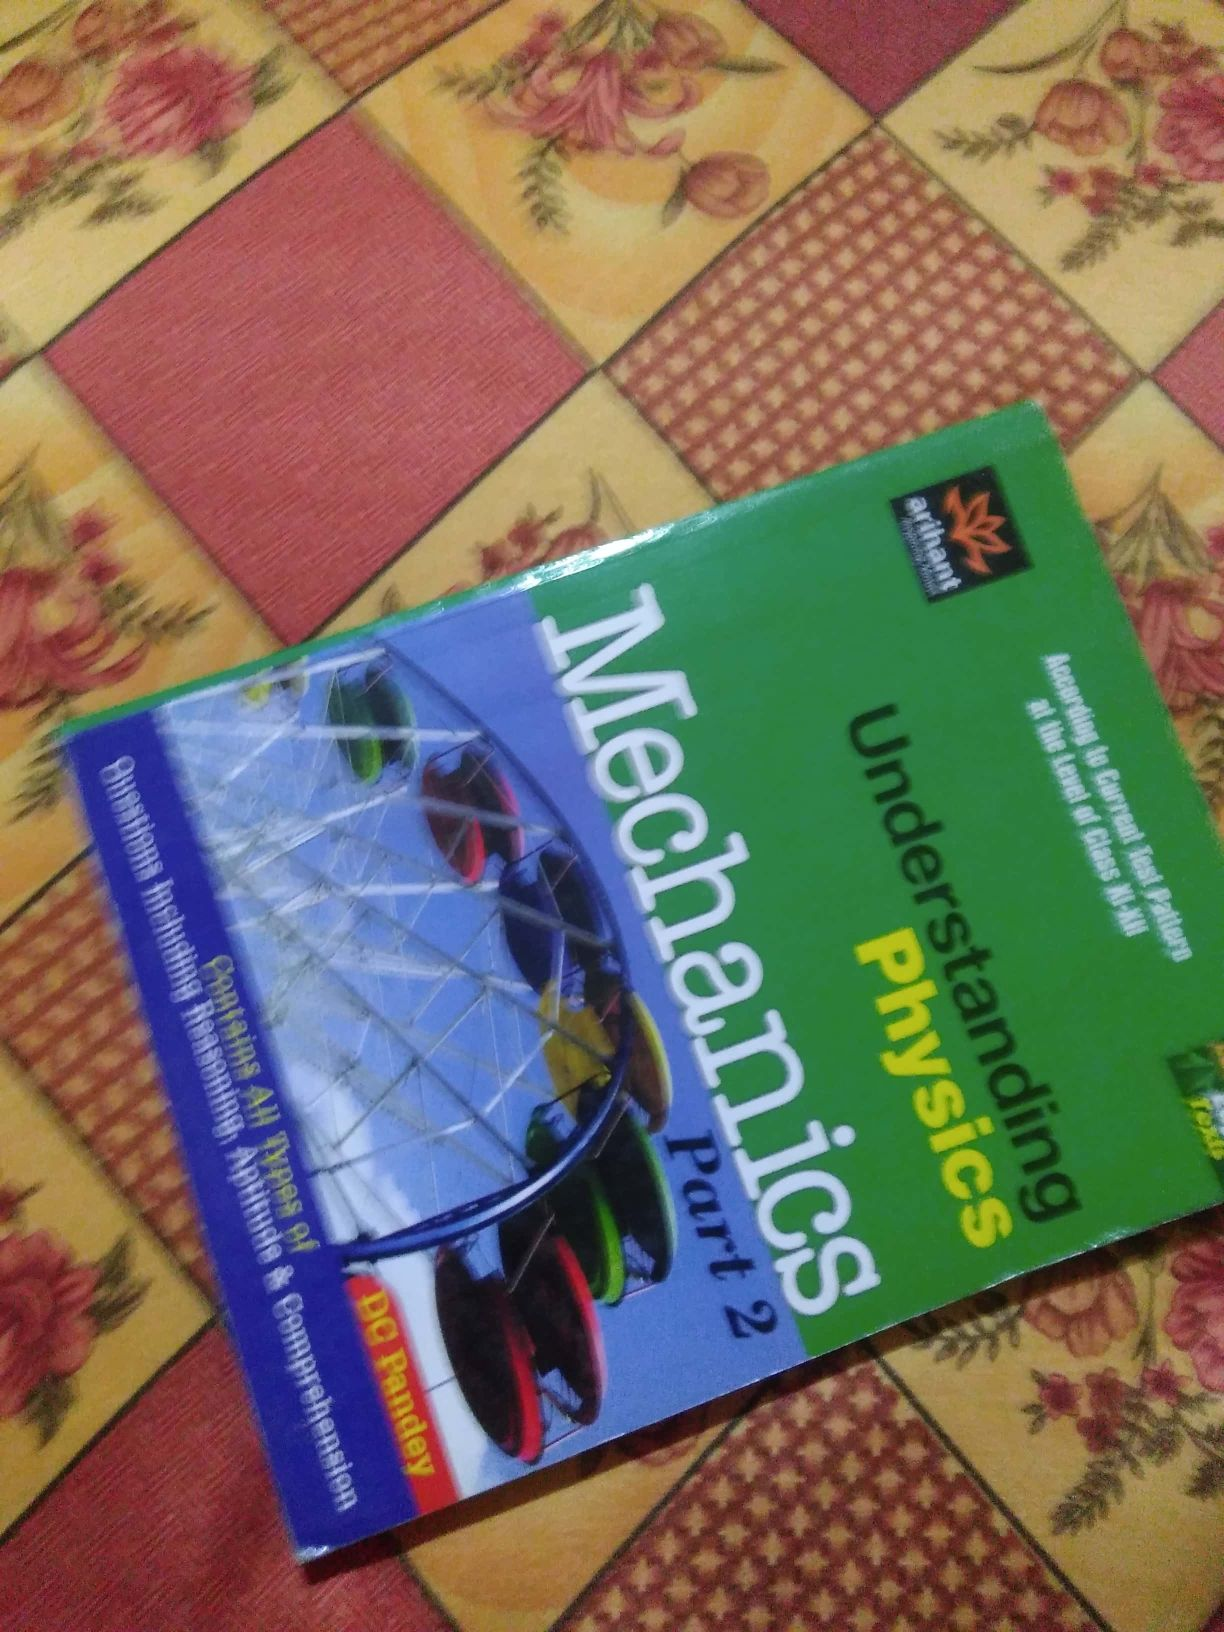mechanics: (42, 448, 1224, 1545)
